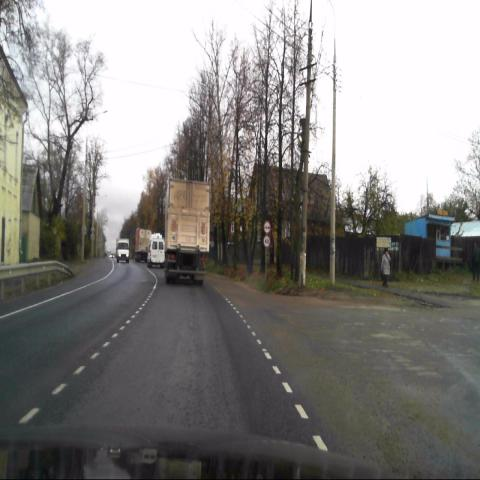3_20: (264, 222, 270, 234)
3_24: (263, 235, 270, 247)
